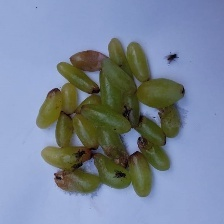grapes: (54, 26, 191, 191)
